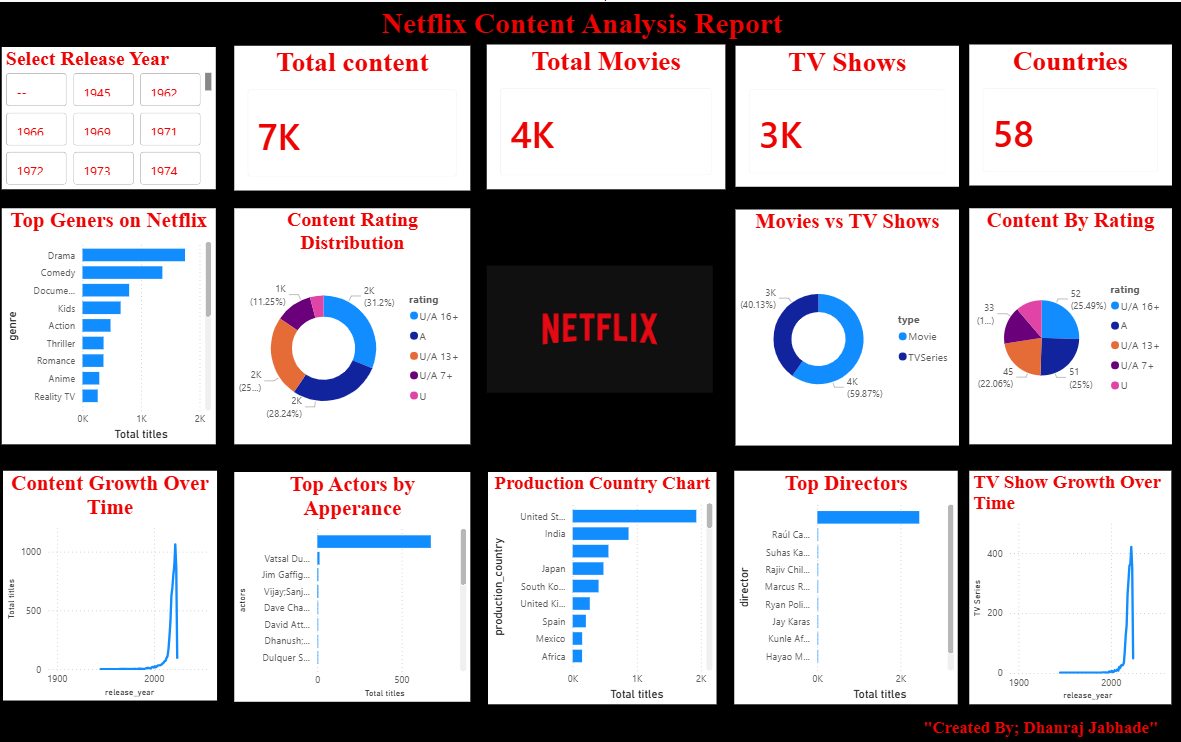

This screenshot's page, from the dashboard's own definition file:
{"tool":"powerbi","page":{"name":"Page 1","canvas":[1506,948],"ordinal":0},"visuals":[{"type":"cardVisual","title":"Total content","fields":{"Data":["netflix_india_shows_and_movies.Total titles"]},"box":[300.2,55.6,300.2,184.3],"z":0},{"type":"cardVisual","title":"Total Movies","fields":{"Data":["netflix_india_shows_and_movies.Movies"]},"box":[621.1,54,303.4,184.3],"z":1000},{"type":"cardVisual","title":"TV Shows","fields":{"Data":["netflix_india_shows_and_movies.TV Series"]},"box":[937.2,55.6,284.3,179.5],"z":2000},{"type":"cardVisual","title":"Countries","fields":{"Data":["netflix_india_shows_and_movies.Countries"]},"box":[1234.2,54,257.3,179.5],"z":3000},{"type":"clusteredBarChart","title":"Top Geners on Netflix","fields":{"Category":["netflix_india_shows_and_movies.genre"],"Y":["netflix_india_shows_and_movies.Total titles"]},"box":[4.8,262.1,271.6,300.2],"z":4000},{"type":"lineChart","title":"Content Growth Over Time","fields":{"Y":["netflix_india_shows_and_movies.Total titles"],"Category":["netflix_india_shows_and_movies.release_year"]},"box":[6.4,595.7,271.6,292.3],"z":5000},{"type":"donutChart","title":"Content Rating Distribution","fields":{"Y":["netflix_india_shows_and_movies.Total titles"],"Category":["netflix_india_shows_and_movies.rating"]},"box":[300.2,262.1,300.2,300.2],"z":6000},{"type":"donutChart","title":"Movies vs TV Shows","fields":{"Y":["netflix_india_shows_and_movies.Total titles"],"Category":["netflix_india_shows_and_movies.type"]},"box":[937.2,263.7,284.3,300.2],"z":7000},{"type":"clusteredBarChart","title":"Top Directors","fields":{"Category":["netflix_india_shows_and_movies.director"],"Y":["netflix_india_shows_and_movies.Total titles"]},"box":[935.6,595.7,284.3,297],"z":8000},{"type":"image","box":[621.1,265.3,287.5,300.2],"z":9000},{"type":"clusteredBarChart","title":"Top Actors by Apperance","fields":{"Y":["netflix_india_shows_and_movies.Total titles"],"Category":["netflix_india_shows_and_movies.actors"]},"box":[300.2,597.3,300.2,292.3],"z":10000},{"type":"clusteredBarChart","title":"Production Country Chart","fields":{"Category":["netflix_india_shows_and_movies.production_country"],"Y":["netflix_india_shows_and_movies.Total titles"]},"box":[622.7,597.3,290.7,295.5],"z":11000},{"type":"advancedSlicerVisual","title":"Select Release Year","fields":{"Values":["netflix_india_shows_and_movies.release_year"]},"box":[4.8,57.2,271.6,181.1],"z":12000},{"type":"pieChart","title":"Content By Rating","fields":{"Category":["netflix_india_shows_and_movies.rating"],"Y":["netflix_india_shows_and_movies.Countries"]},"box":[1234.2,262.1,257.3,300.2],"z":13000},{"type":"lineChart","title":"TV Show Growth Over Time","fields":{"Category":["netflix_india_shows_and_movies.release_year"],"Y":["netflix_india_shows_and_movies.TV Series"]},"box":[1234,596,257,297],"z":14000},{"type":"textbox","box":[406.7,0,671.9,54],"z":15000},{"type":"textbox","box":[1170.7,905.4,335.2,42.9],"z":16000}]}

Visuals, with their boxes in screenshot pixels (x1, y1, x2, y2), scaled from the page's 1506x948 canvas onto the 1181x742 screenshot:
"Total content" cardVisual: select_region(235, 44, 471, 188)
"Total Movies" cardVisual: select_region(487, 42, 725, 187)
"TV Shows" cardVisual: select_region(735, 44, 958, 184)
"Countries" cardVisual: select_region(968, 42, 1170, 183)
"Top Geners on Netflix" clusteredBarChart: select_region(4, 205, 217, 440)
"Content Growth Over Time" lineChart: select_region(5, 466, 218, 695)
"Content Rating Distribution" donutChart: select_region(235, 205, 471, 440)
"Movies vs TV Shows" donutChart: select_region(735, 206, 958, 441)
"Top Directors" clusteredBarChart: select_region(734, 466, 957, 699)
image: select_region(487, 208, 713, 443)
"Top Actors by Apperance" clusteredBarChart: select_region(235, 468, 471, 696)
"Production Country Chart" clusteredBarChart: select_region(488, 468, 716, 699)
"Select Release Year" advancedSlicerVisual: select_region(4, 45, 217, 187)
"Content By Rating" pieChart: select_region(968, 205, 1170, 440)
"TV Show Growth Over Time" lineChart: select_region(968, 466, 1169, 699)
textbox: select_region(319, 0, 846, 42)
textbox: select_region(918, 709, 1180, 741)
